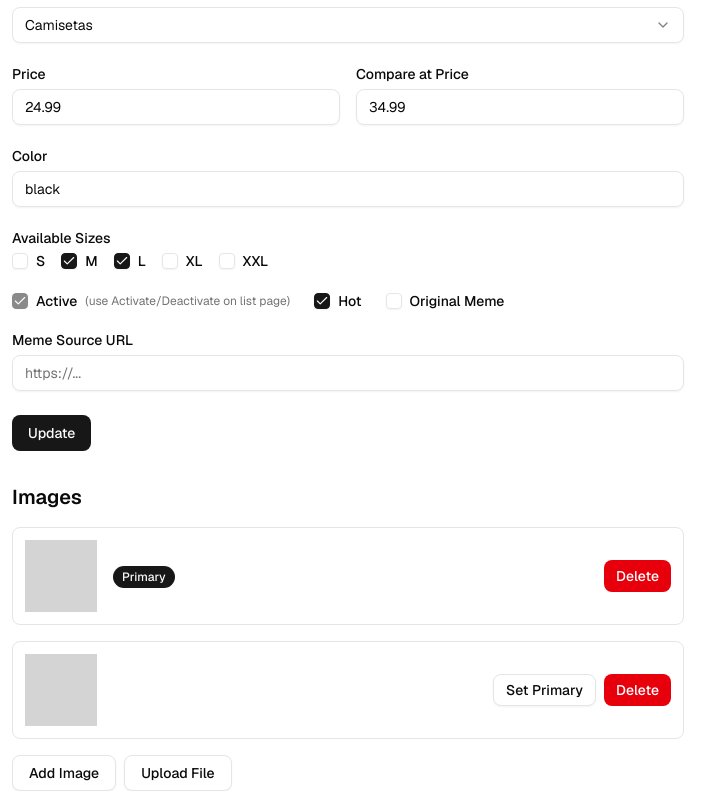
it: ProductForm › edit mode › should show "Updating..." on submit button while submitting
(page scrolled)
Click the button "Update": [52, 433] box [12,415,91,451]
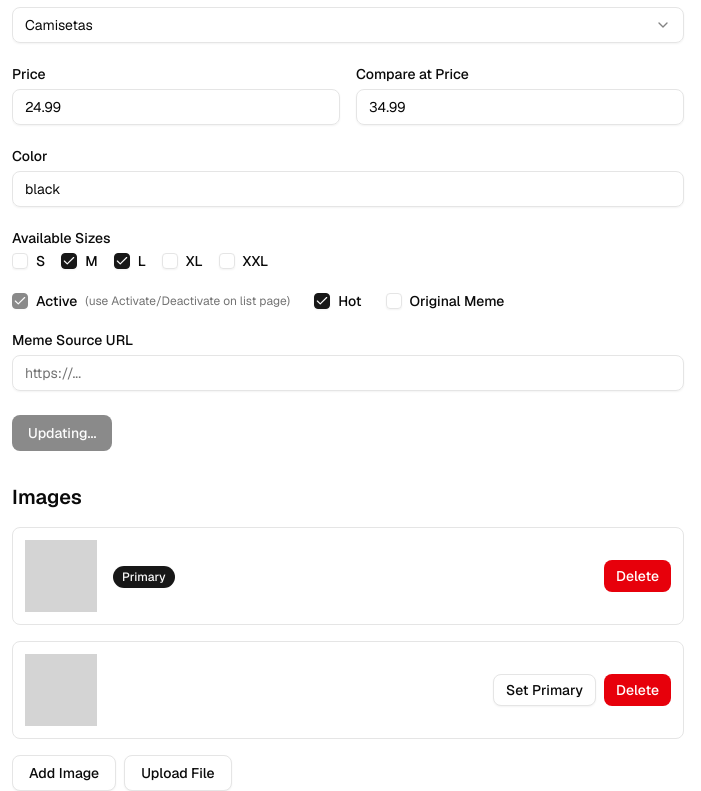
Now the button "Updating..." is disabled, box [12,415,112,451]
